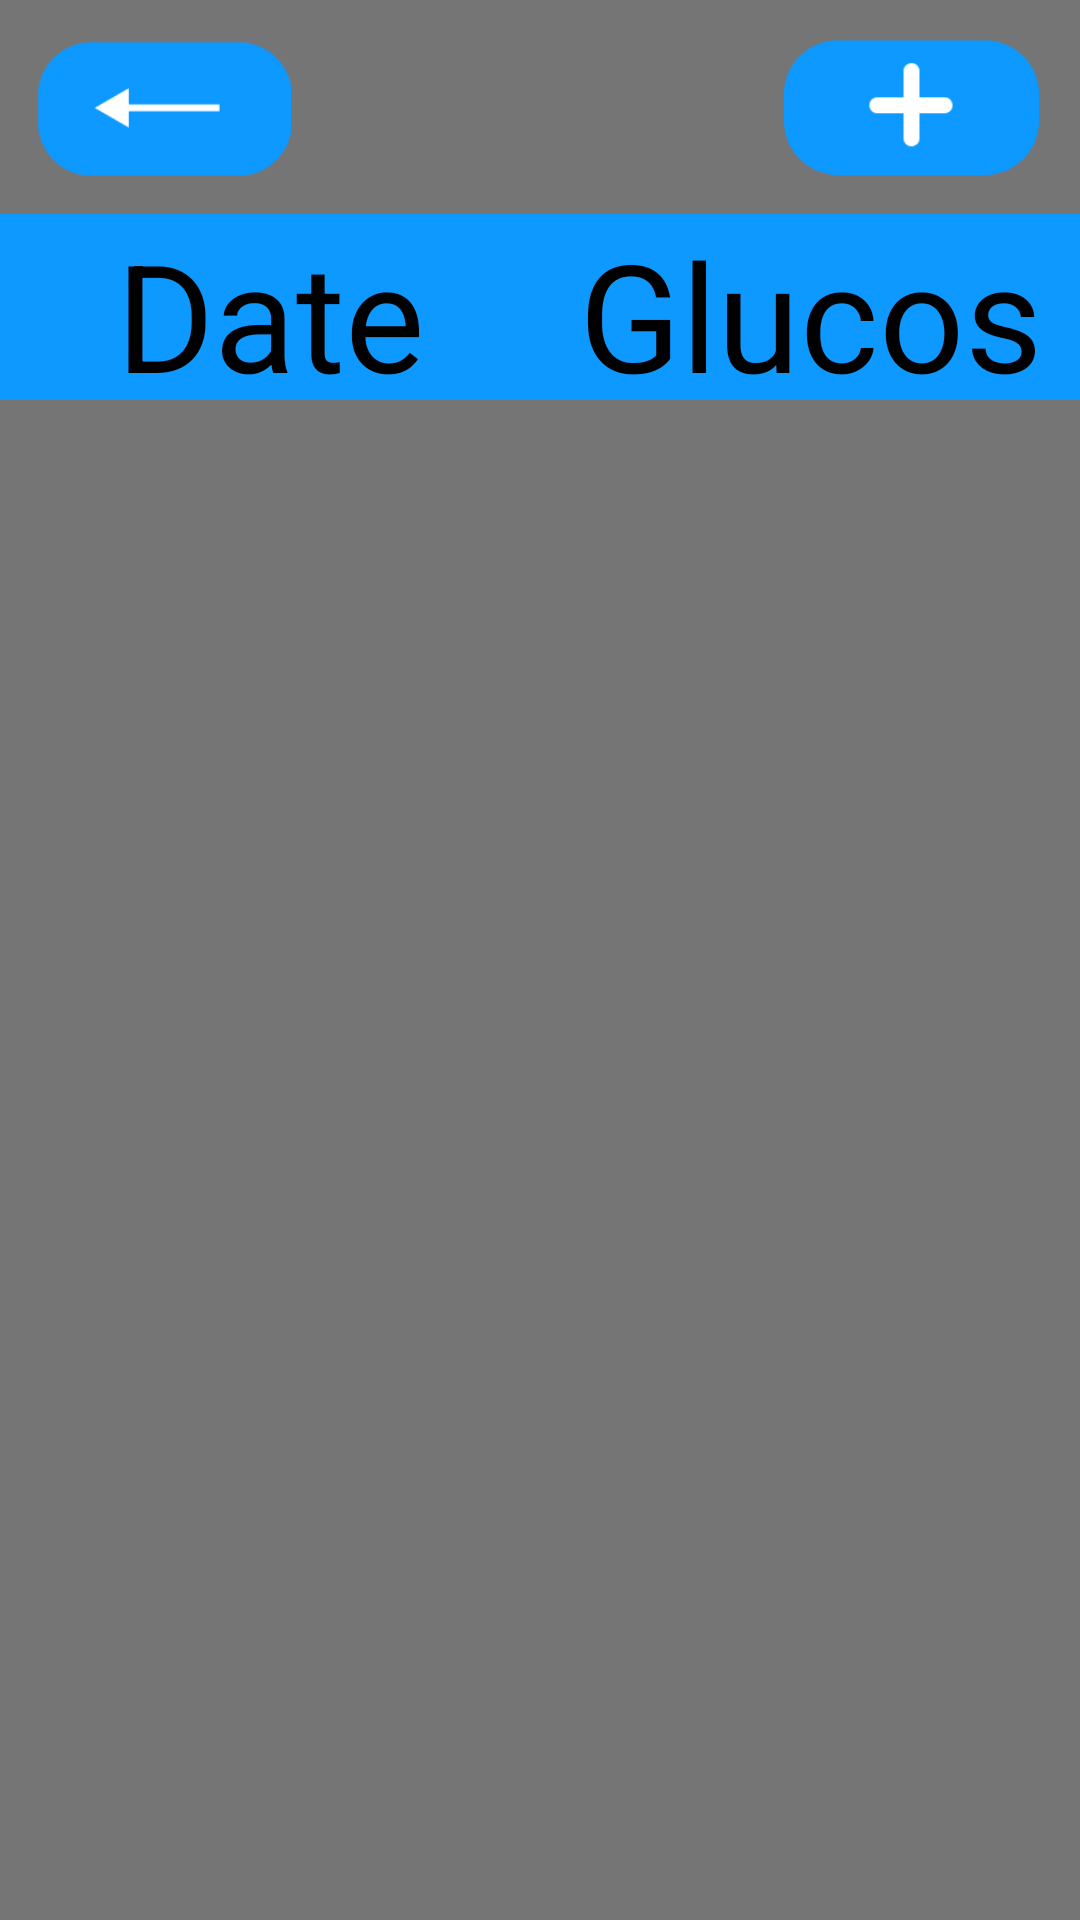

Icons on this 1080px x 1920px Android screen, each with the point to tap as (x=x, y=y):
add data: (x=911, y=107)
Back Button: (x=164, y=109)
